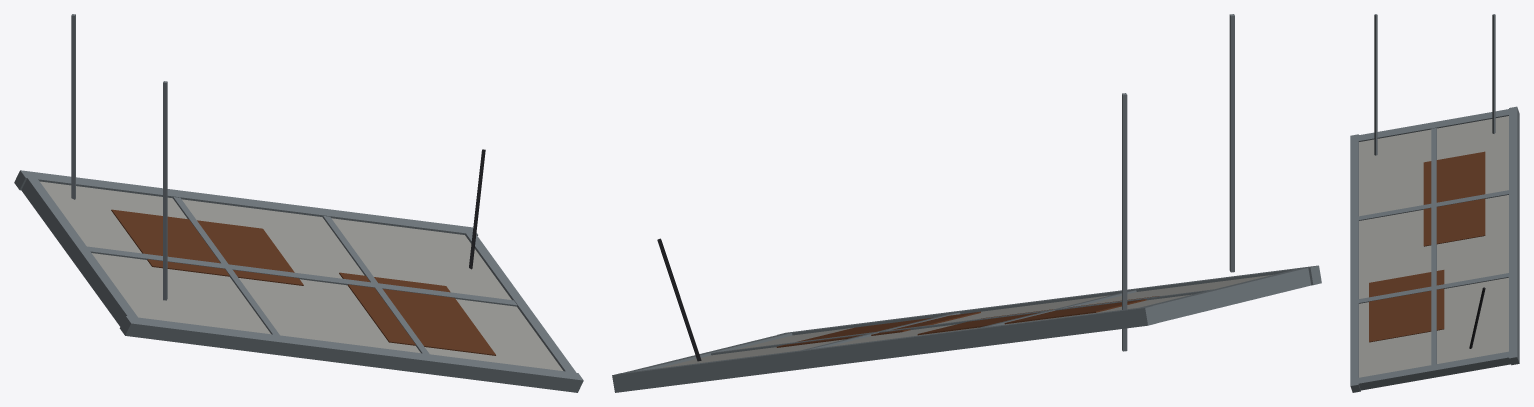
The model's file is lobby_ceiling_hang.glb.
3 renders of one model, left to right at view 1: azimuth 30°, elevation 25°; view 2: azimuth 150°, elevation 25°; view 3: azimuth 270°, elevation 25°, orthographic. The views are drawn at different scales.
Parts seen in each view (by area): view 1: lobby_ceiling_hang; view 2: lobby_ceiling_hang; view 3: lobby_ceiling_hang.
Part boxes in pixels (x1=…): lobby_ceiling_hang: x1=14, y1=14, x2=583, y2=392; lobby_ceiling_hang: x1=612, y1=14, x2=1321, y2=392; lobby_ceiling_hang: x1=1350, y1=14, x2=1519, y2=392.
Bounding box in the file's own units: 2.51 × 1.99 × 1.2.
2 materials, 2 textured.
